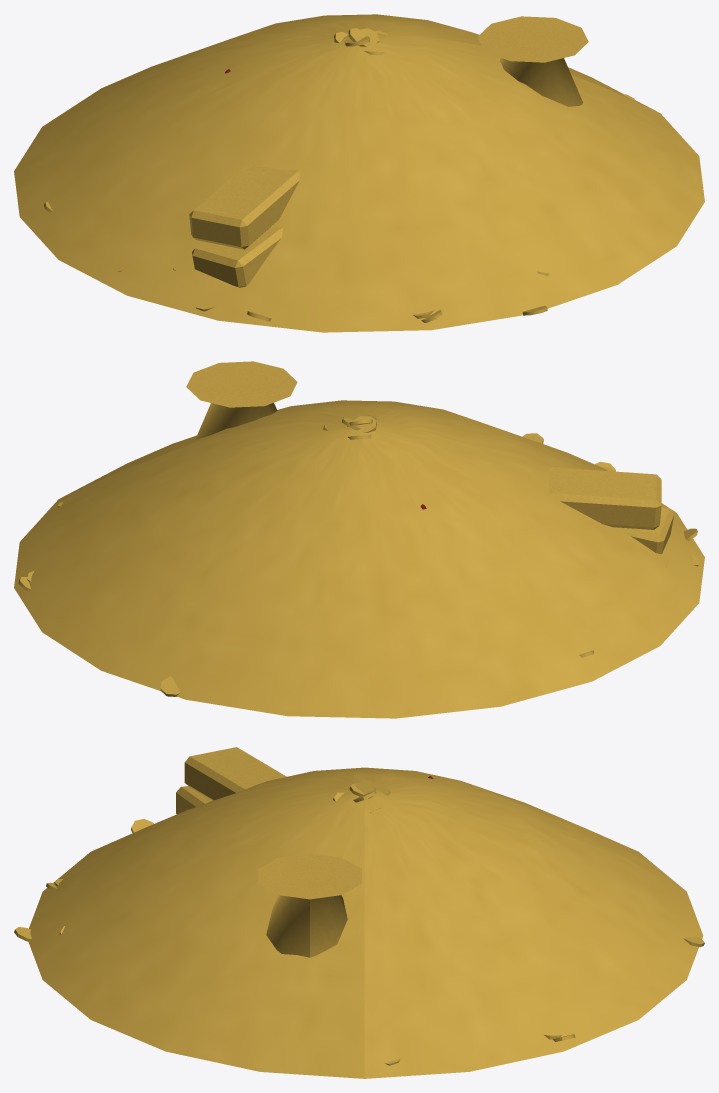
The model's file is gold_pile.glb.
3 views of the same model, one above another, from view 1: azimuth 30°, elevation 25°; view 2: azimuth 150°, elevation 25°; view 3: azimuth 270°, elevation 25° (orthographic). The views are drawn at different scales.
Visible parts, largest first — view 1: gold_pile; view 2: gold_pile; view 3: gold_pile.
Boxes of the visible parts, left/top/right/bottom form: gold_pile: left=14, top=14, right=704, bottom=332; gold_pile: left=14, top=361, right=704, bottom=718; gold_pile: left=14, top=747, right=704, bottom=1078.
Bounding box in the file's own units: 1.24 × 0.3144 × 1.27.
Materials: 1 (1 with a texture image).
